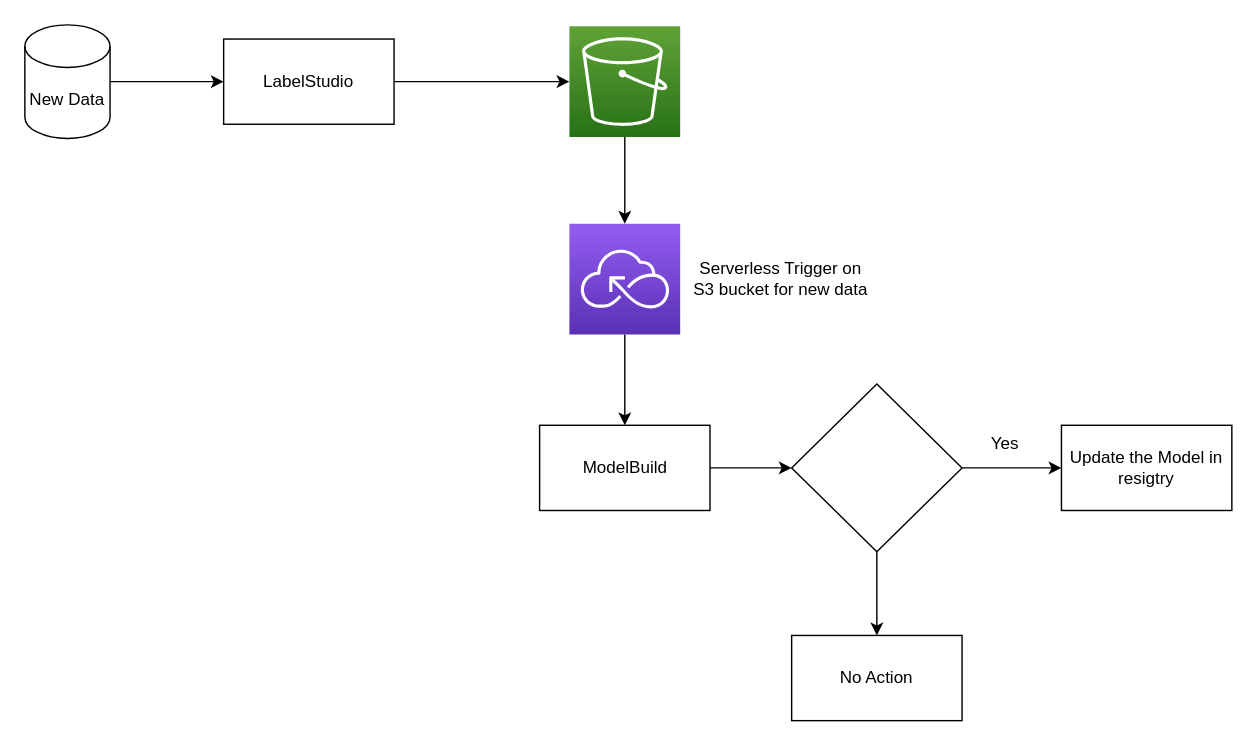
This 1257x746 diagram has some shape labels left out. The centre of each missing label's shape, as x and y in pixels:
If accuracy > Threshold: the point at 876,467
S3 bucket for new data: the point at 624,81
